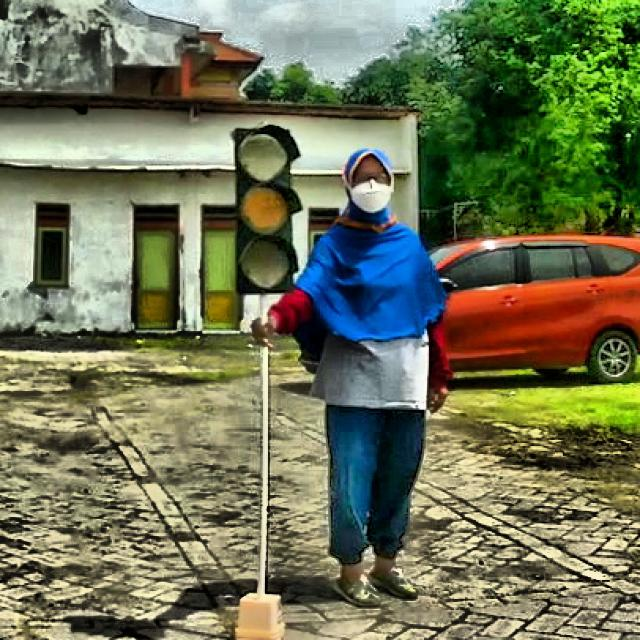yellow: (234, 128, 296, 293)
